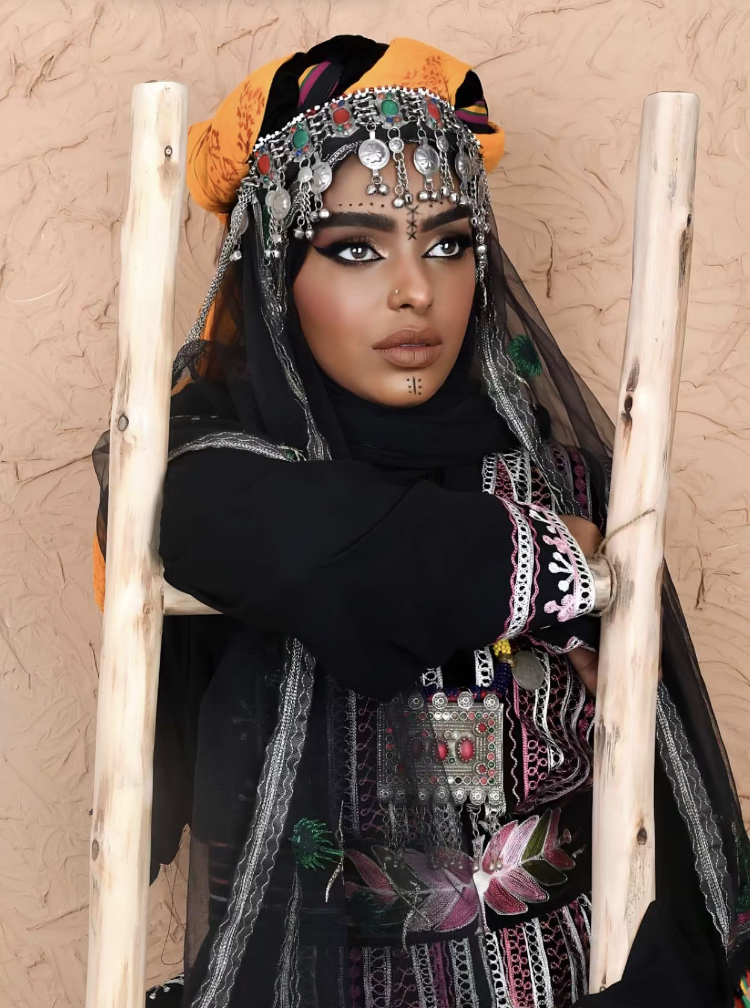Saudi_Founding_Day: (86, 28, 750, 1005)
